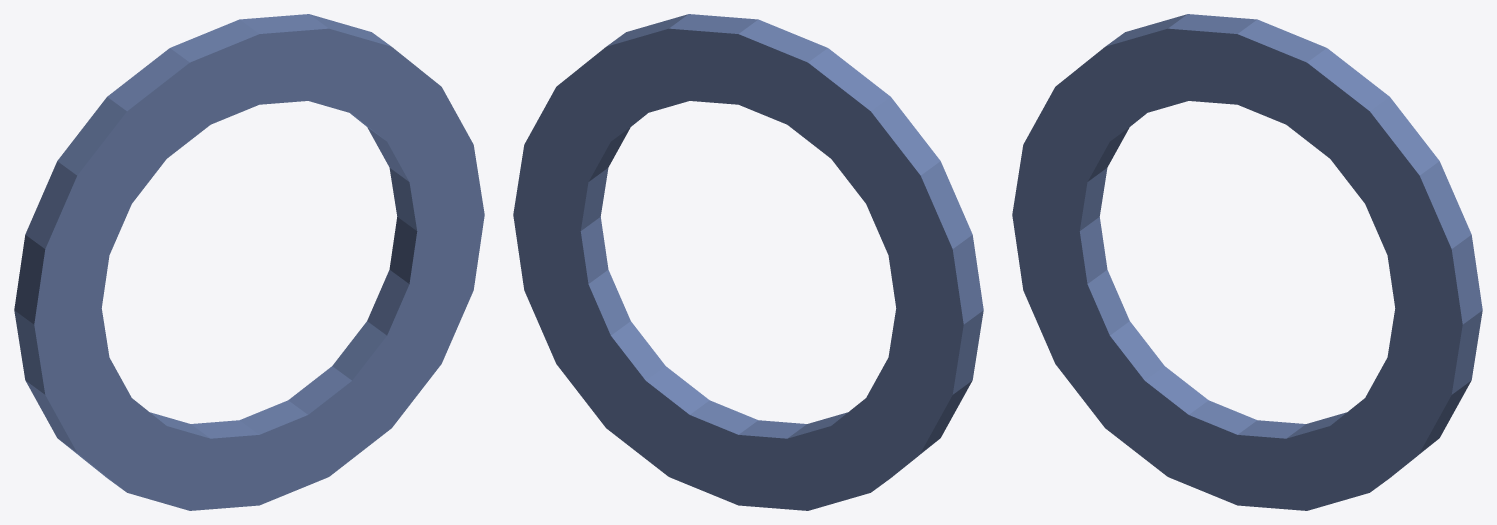
File: Obstacle.glb
The picture shows the model from 3 angles, left to right: view 1: azimuth 30°, elevation 25°; view 2: azimuth 150°, elevation 25°; view 3: azimuth 330°, elevation 25°; orthographic projection.
Parts seen in each view (by area): view 1: Mesh_Mesh_head_geo.001_lambert2SG.001; view 2: Mesh_Mesh_head_geo.001_lambert2SG.001; view 3: Mesh_Mesh_head_geo.001_lambert2SG.001.
Boxes of the visible parts, x1,y1,x2,y2 form: Mesh_Mesh_head_geo.001_lambert2SG.001: (14, 14, 484, 510); Mesh_Mesh_head_geo.001_lambert2SG.001: (513, 14, 983, 510); Mesh_Mesh_head_geo.001_lambert2SG.001: (1012, 14, 1482, 510).
Size of the model in its own units: 39 by 39 by 3.
